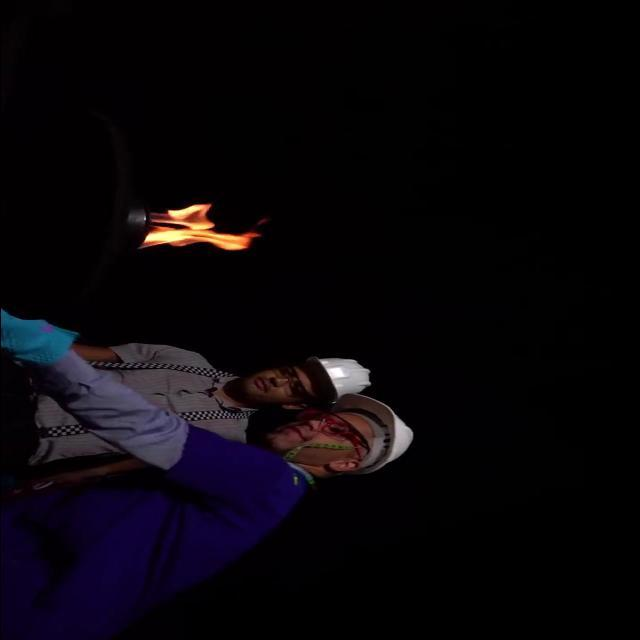Fire: (150, 204, 268, 254)
